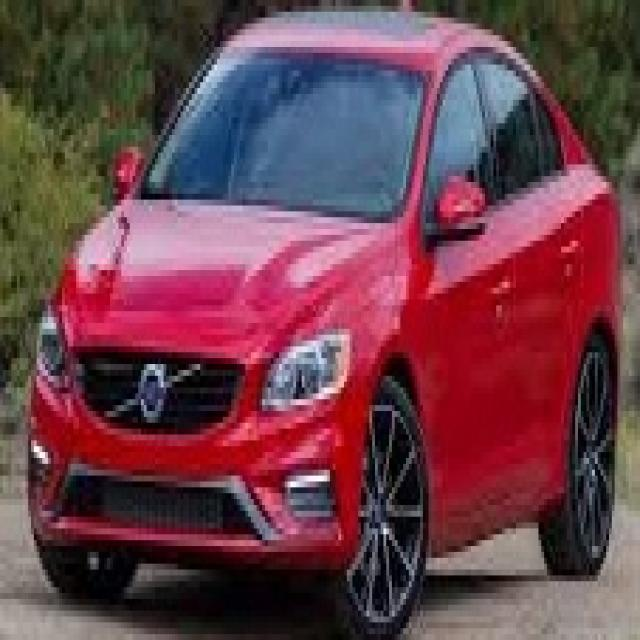red: (26, 13, 622, 590)
